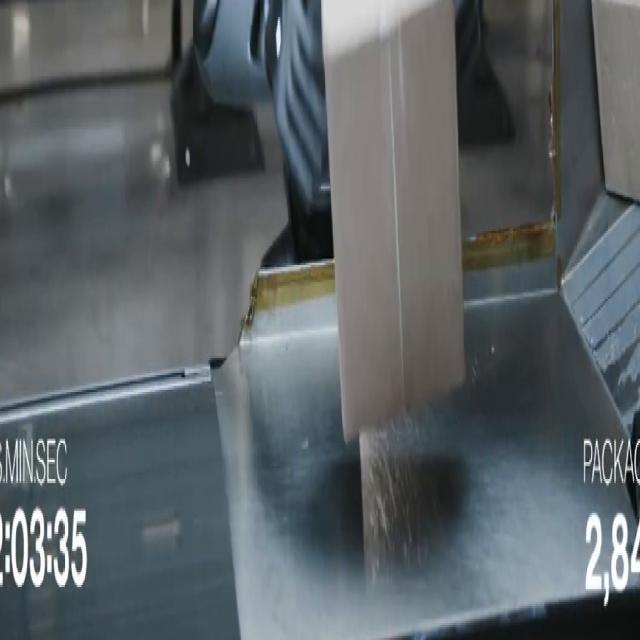package: (322, 0, 465, 440), (593, 0, 639, 201)
